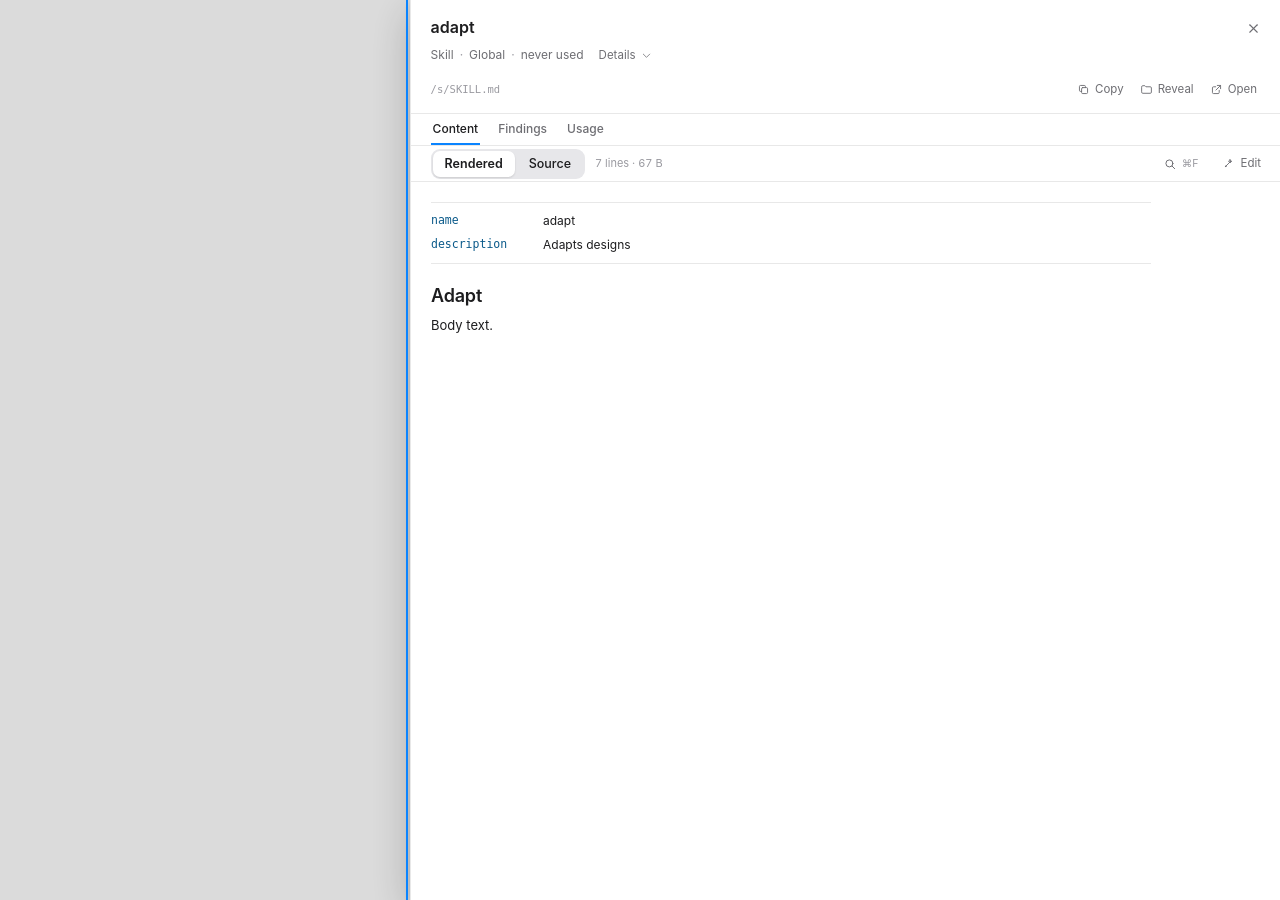
ItemViewer › editing › saves the edited text and returns to reading it
Click the button "Edit" at (1242, 164), box x1=1216 y1=152 x2=1268 y2=176
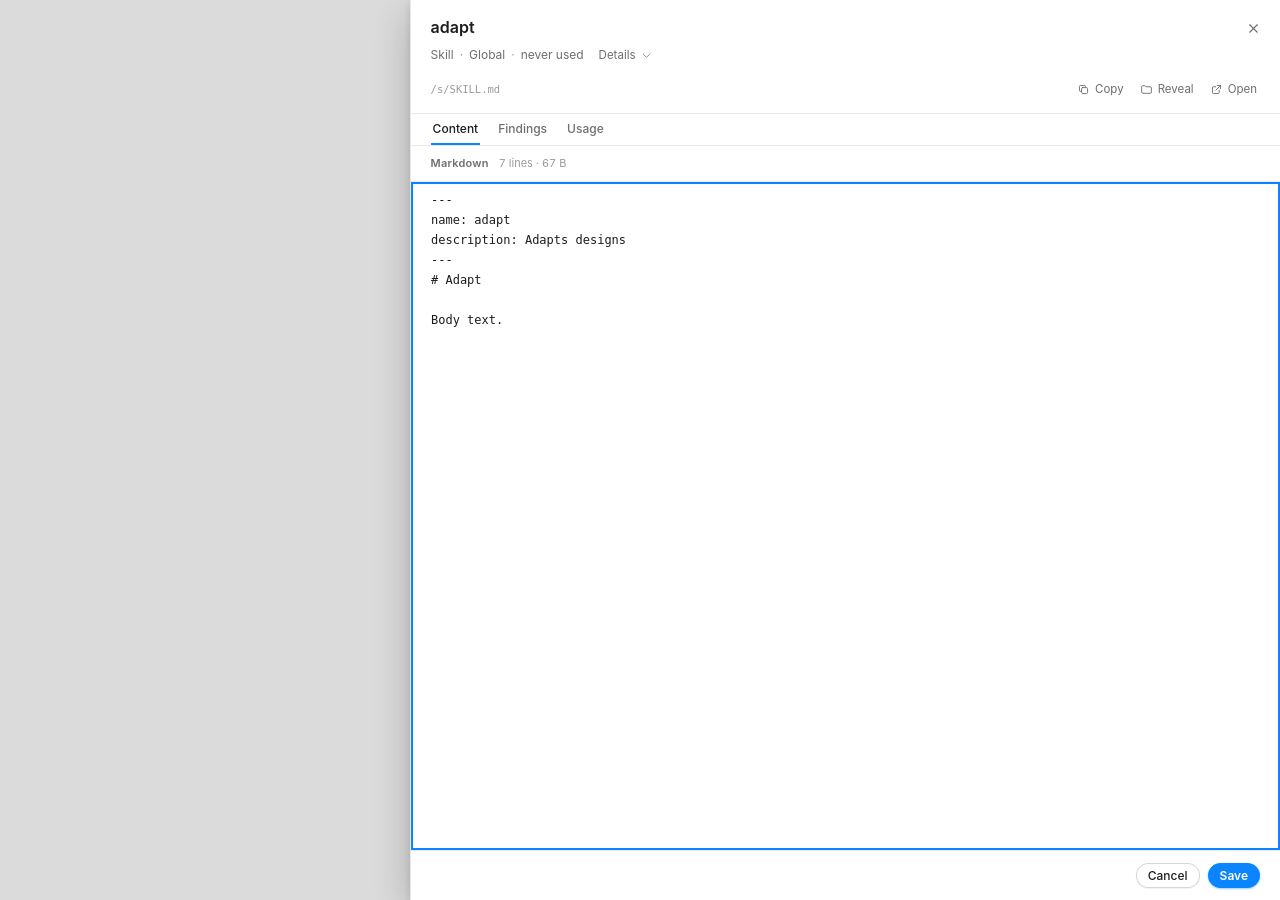
Replace the text in the text box named "item source" with "# Edited" at (845, 516), box x1=411 y1=182 x2=1279 y2=850
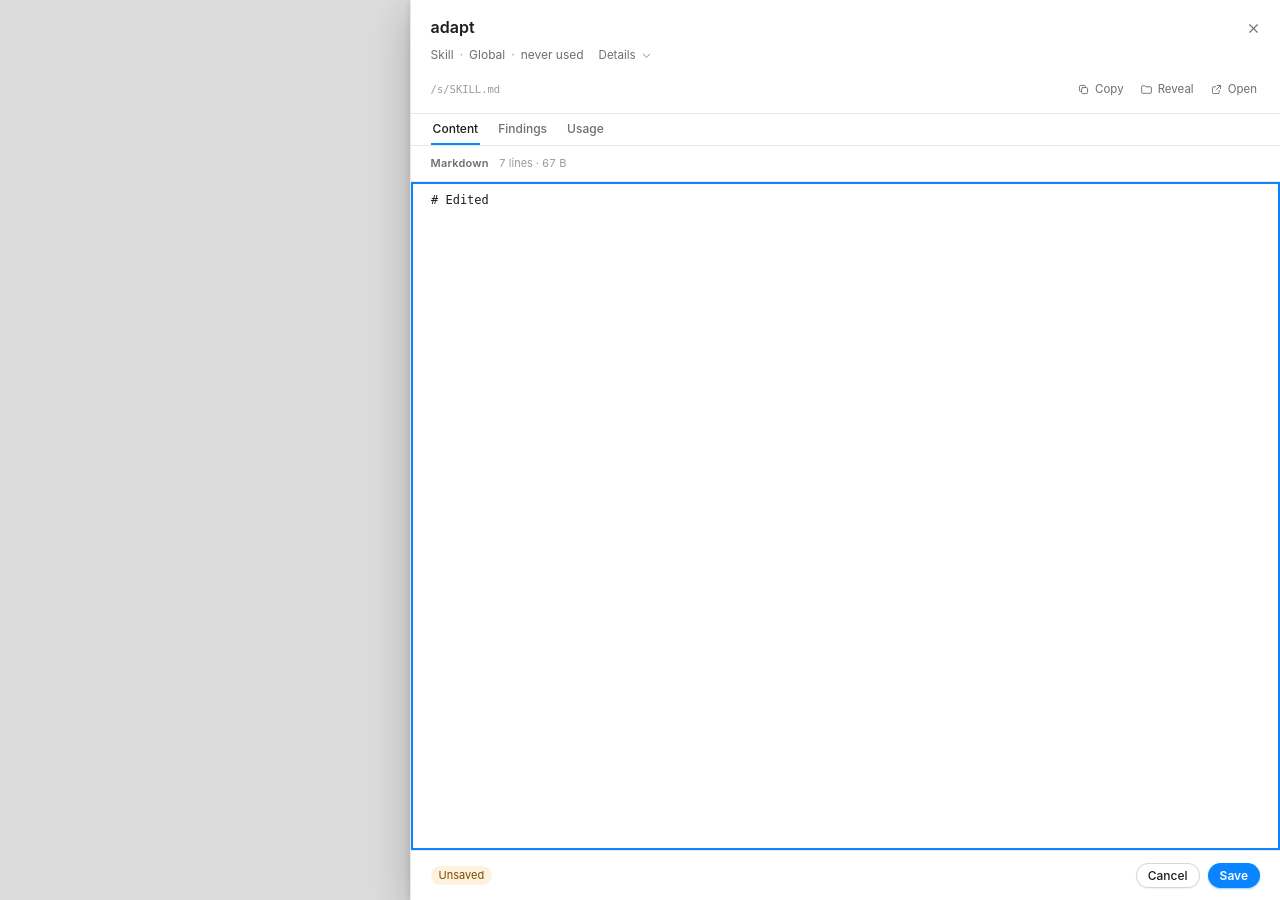
Click the button "Save" at (1234, 876), box x1=1208 y1=863 x2=1260 y2=888
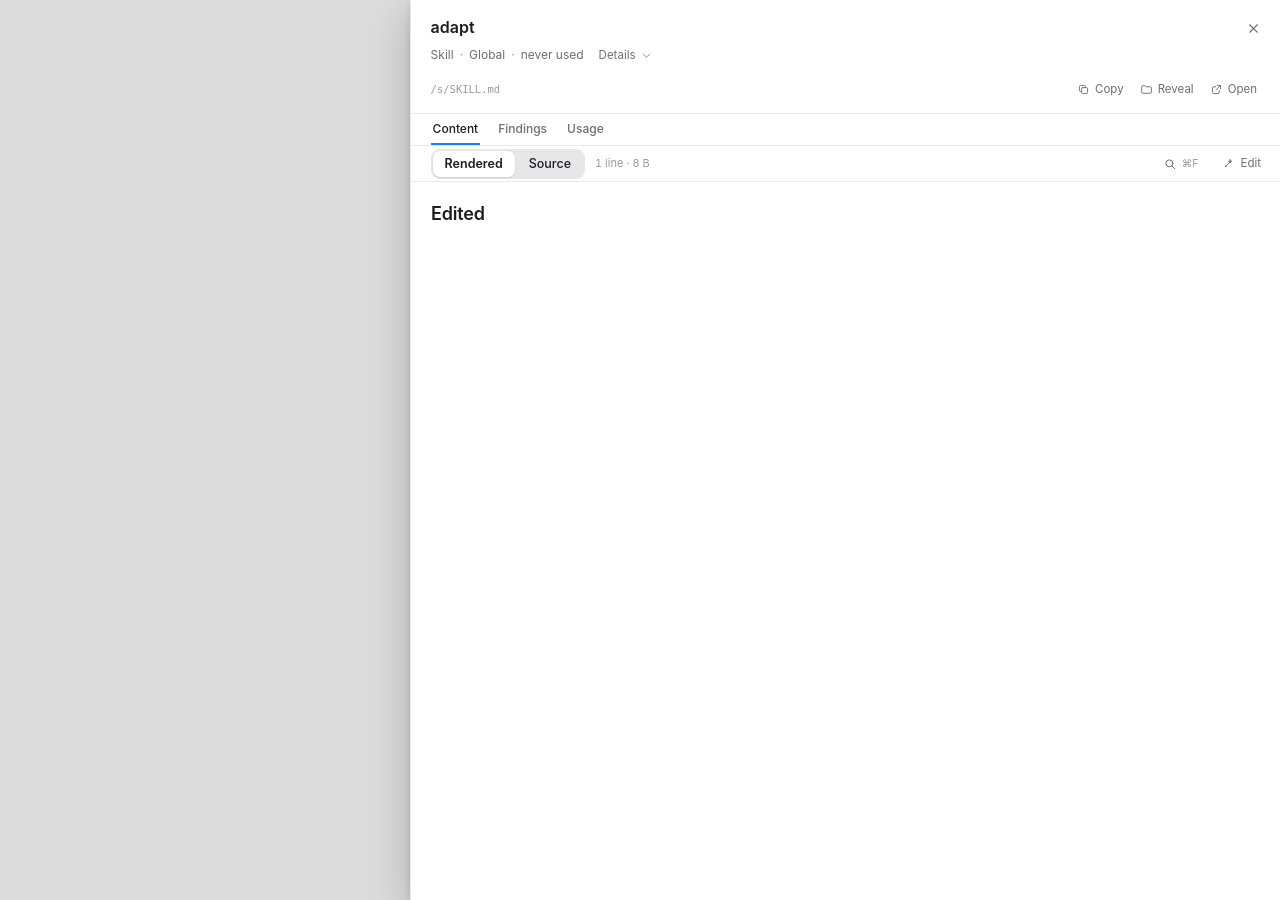
Now the heading "Edited" is shown, box x1=431 y1=203 x2=484 y2=224
